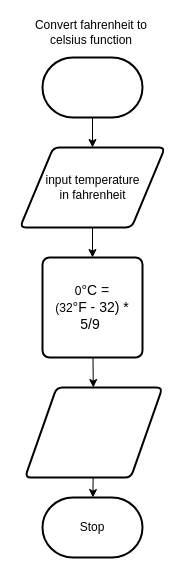
This 183x575 diagram has some shape labels left out. The shapes that lost their labels are listed below. From the top down, each one's centre as x and y in pixels, then its label:
At point (92, 87): "Start".
At point (93, 432): "output temperature in celsius".
